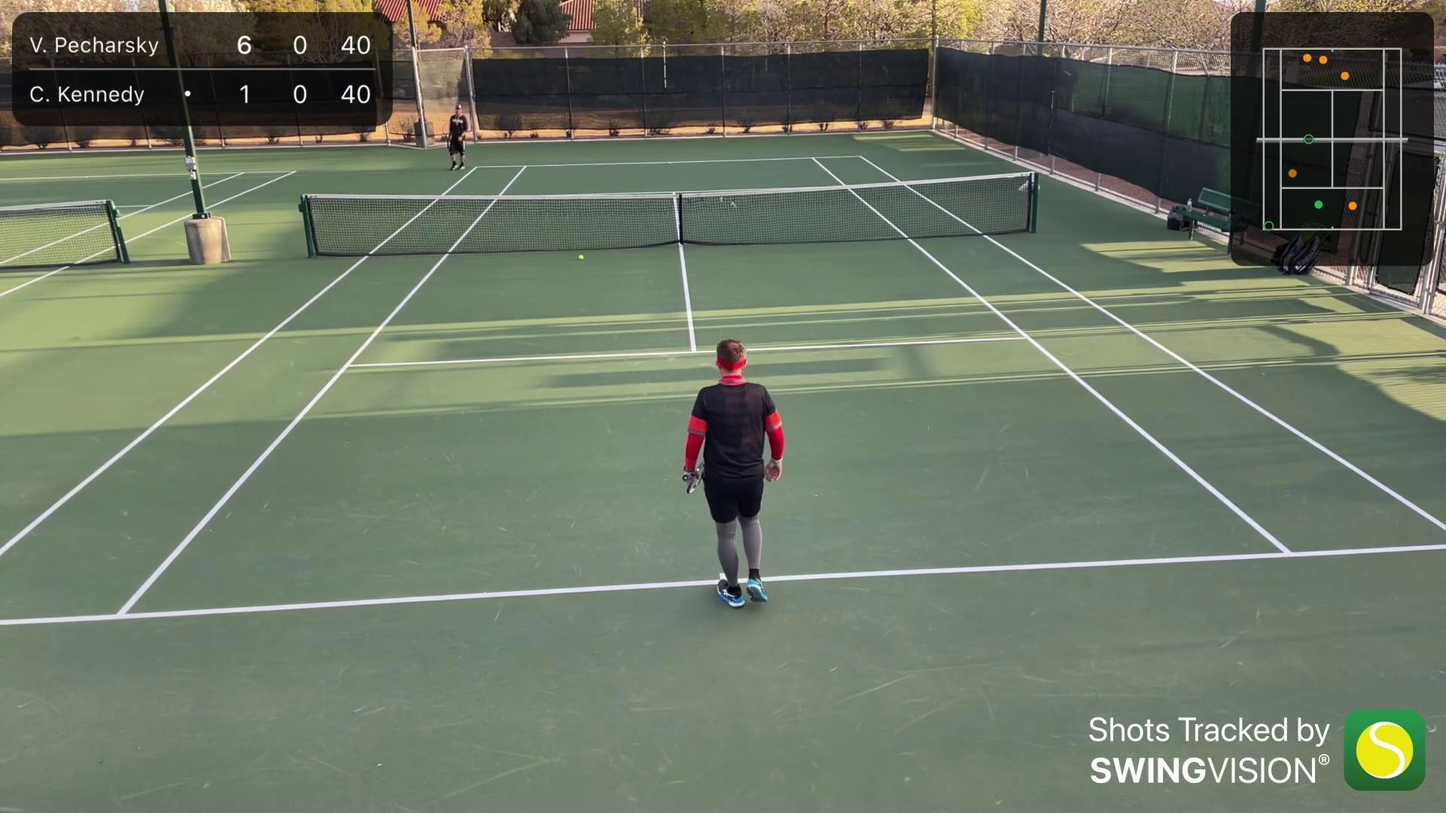ball: (576, 253, 586, 263)
